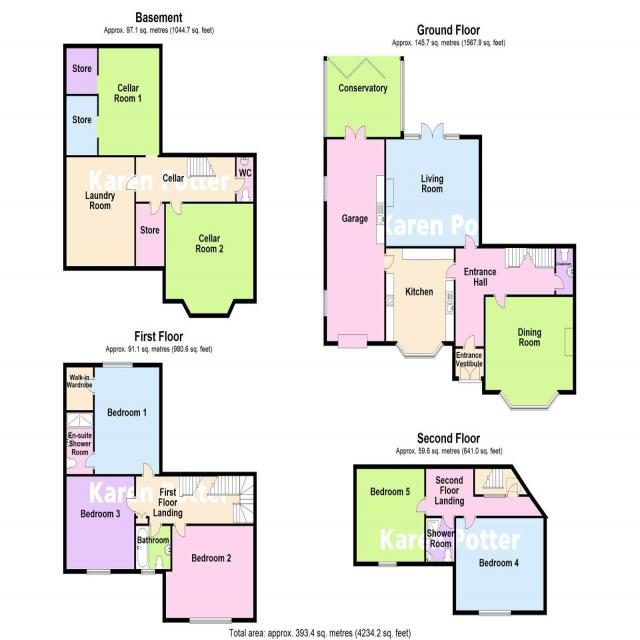DOOR: (458, 365, 482, 384), (463, 515, 477, 530), (173, 523, 187, 538), (141, 462, 155, 477), (84, 376, 95, 395), (84, 451, 95, 470), (445, 262, 456, 280), (554, 273, 565, 291), (493, 294, 507, 308), (149, 523, 162, 538), (464, 234, 477, 249), (416, 496, 426, 515), (384, 253, 394, 272), (463, 335, 476, 349), (170, 202, 183, 216), (149, 202, 162, 216), (126, 496, 136, 514), (235, 176, 245, 194), (126, 174, 136, 192), (442, 516, 455, 529)
DOUBLE DOOR: (421, 122, 444, 139), (344, 125, 367, 140)
FOLDING DOOR: (323, 56, 387, 81)
ROOM: (384, 123, 482, 249), (162, 202, 257, 318), (483, 294, 577, 411), (452, 515, 549, 617), (162, 523, 257, 624), (84, 362, 163, 477), (63, 155, 136, 271), (384, 246, 456, 359), (353, 464, 426, 567), (63, 474, 136, 575)
WINDOW: (498, 390, 560, 411), (395, 341, 445, 359), (189, 617, 232, 624), (478, 610, 511, 617), (102, 361, 133, 368), (86, 569, 111, 575), (322, 289, 327, 317), (378, 561, 397, 567), (404, 133, 420, 140), (444, 133, 460, 140), (323, 176, 327, 202), (141, 569, 156, 575)
